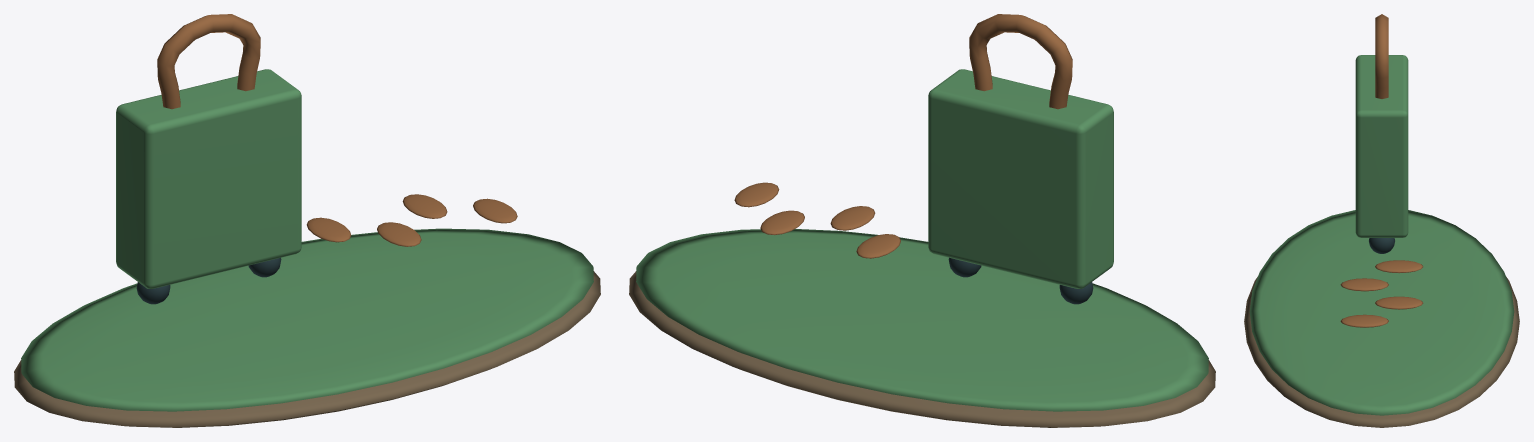
The model's file is travel-walk.glb.
3 views of the same model, side by side, from view 1: azimuth 30°, elevation 25°; view 2: azimuth 150°, elevation 25°; view 3: azimuth 270°, elevation 25° (orthographic). The views are drawn at different scales.
Visible parts, largest first — view 1: travel-walk_surface_01, travel-walk_surface_00, travel-walk_surface_02, travel-walk_surface_03; view 2: travel-walk_surface_01, travel-walk_surface_00, travel-walk_surface_02, travel-walk_surface_03; view 3: travel-walk_surface_01, travel-walk_surface_00, travel-walk_surface_02, travel-walk_surface_03.
Part boxes in pixels (x1,y1,x2,y2): travel-walk_surface_01: (21, 69, 593, 411); travel-walk_surface_00: (14, 271, 600, 427); travel-walk_surface_02: (157, 14, 517, 246); travel-walk_surface_03: (136, 257, 281, 304); travel-walk_surface_01: (636, 69, 1208, 411); travel-walk_surface_00: (629, 271, 1215, 427); travel-walk_surface_02: (734, 14, 1072, 258); travel-walk_surface_03: (948, 257, 1093, 304); travel-walk_surface_01: (1249, 55, 1514, 415); travel-walk_surface_00: (1244, 277, 1519, 427); travel-walk_surface_02: (1340, 14, 1423, 327); travel-walk_surface_03: (1369, 238, 1394, 253).
Size of the model in its own units: 4.56 by 2.78 by 2.5.
